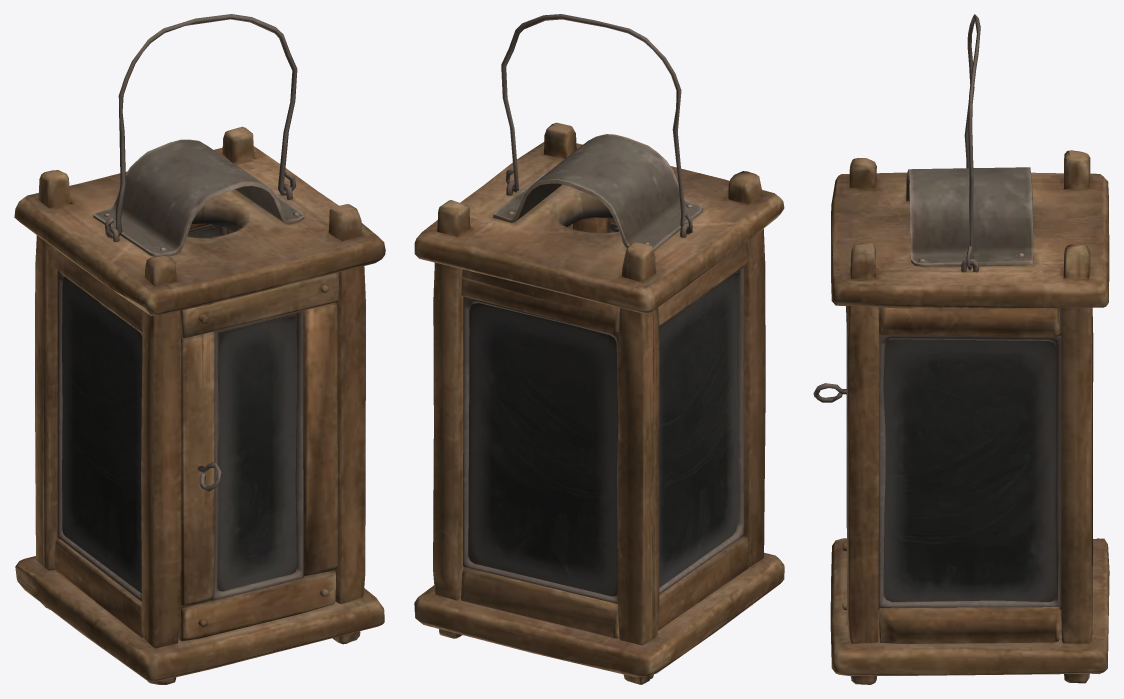
Rendered from wooden_lantern_01.glb.
The picture shows the model from 3 angles, left to right: view 1: azimuth 30°, elevation 25°; view 2: azimuth 150°, elevation 25°; view 3: azimuth 270°, elevation 25°; orthographic projection.
Parts seen in each view (by area): view 1: wooden_lantern_01; view 2: wooden_lantern_01; view 3: wooden_lantern_01.
Boxes of the visible parts, <box> form: wooden_lantern_01: <box>14,14,385,684</box>; wooden_lantern_01: <box>414,14,784,684</box>; wooden_lantern_01: <box>813,14,1109,684</box>.
Bounding box in the file's own units: 0.2211 × 0.5296 × 0.2347.
2 materials, 2 textured.
